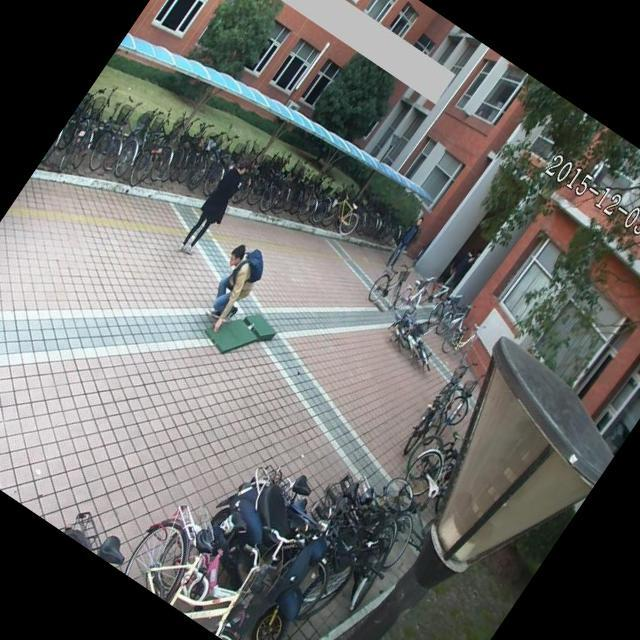person: (168, 146, 263, 268), (183, 234, 278, 338), (378, 207, 432, 275)
